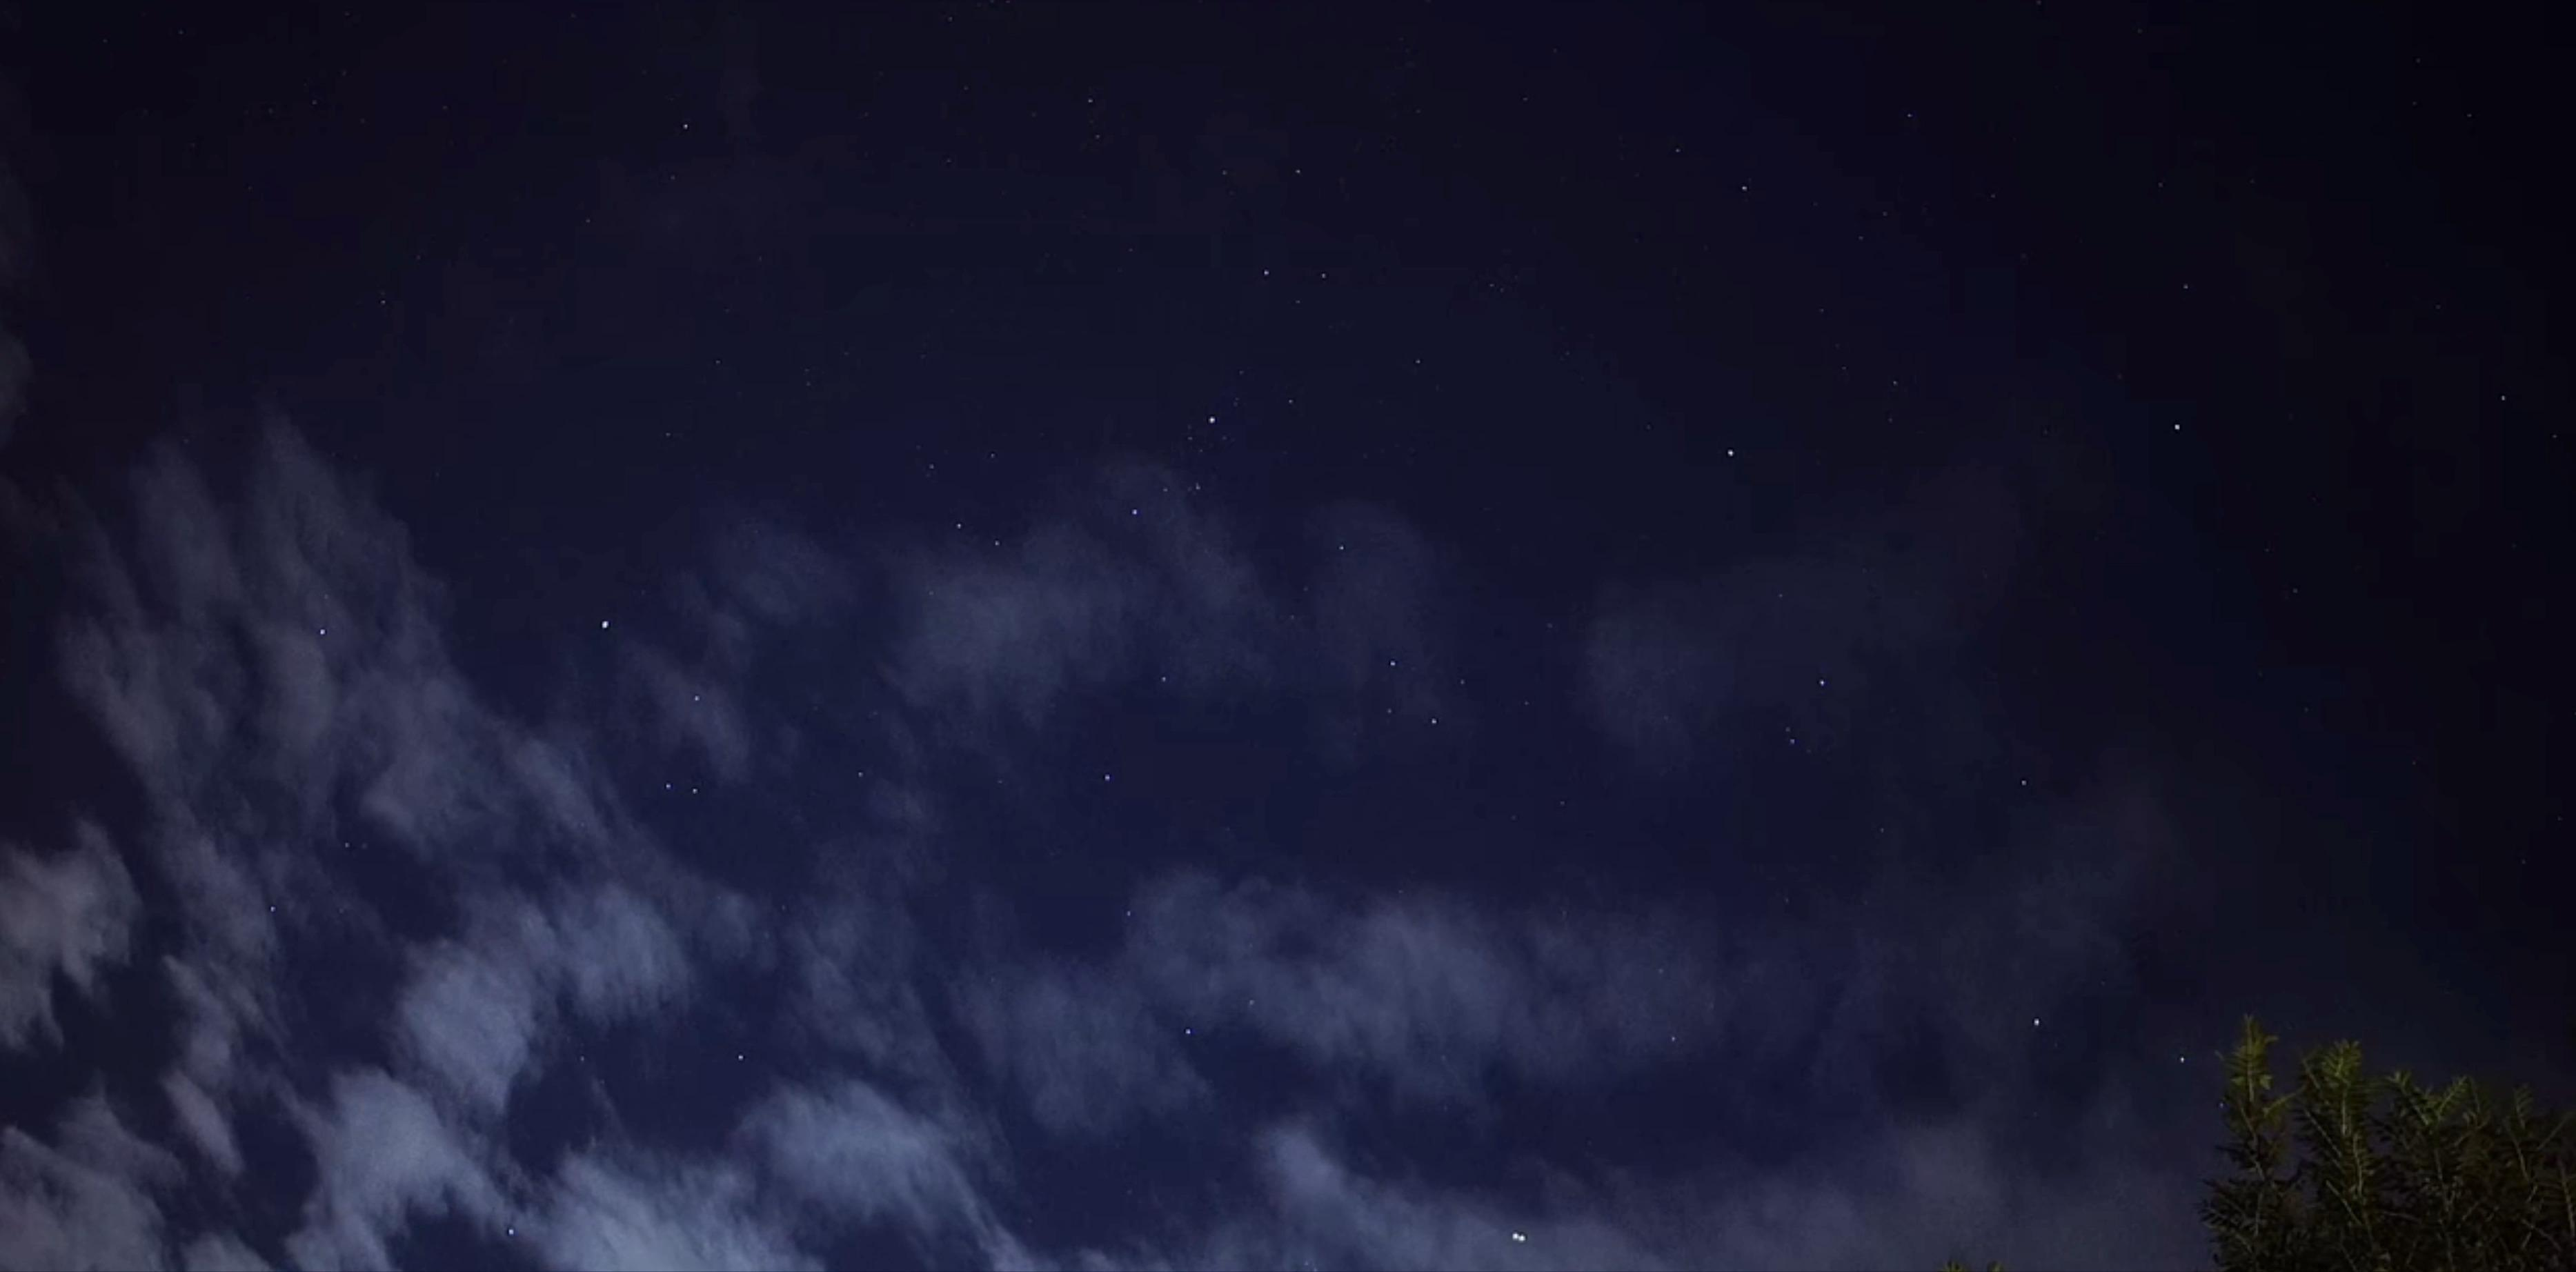Plane: (1503, 1223, 1549, 1256)
